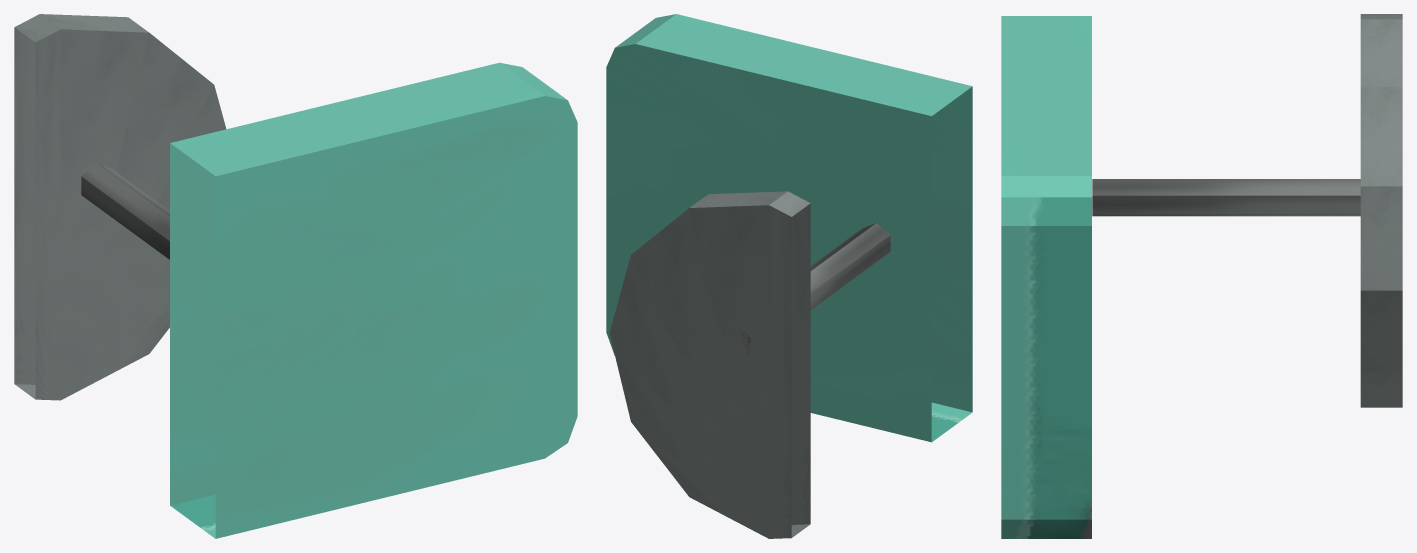
The model's file is pz_g019_50s_diner_table_part0.obj.
3 renders of one model, left to right at view 1: azimuth 30°, elevation 25°; view 2: azimuth 150°, elevation 25°; view 3: azimuth 270°, elevation 25°, orthographic. The views are drawn at different scales.
Visible parts, largest first — view 1: tabletop_top, pedestal_0_cap1, tabletop_edge, tabletop_bottom, pedestal_0_cap0, pedestal_1_side, pedestal_0_side; view 2: tabletop_bottom, pedestal_0_cap0, tabletop_edge, tabletop_top, pedestal_0_cap1, pedestal_1_side, pedestal_0_side; view 3: tabletop_edge, pedestal_0_side, pedestal_1_side.
Boxes of the visible parts, x1,y1,x2,y2 form: tabletop_top: (215, 96, 577, 538); pedestal_0_cap1: (35, 29, 226, 400); tabletop_edge: (170, 62, 567, 538); tabletop_bottom: (170, 143, 215, 505); pedestal_0_cap0: (14, 27, 35, 384); pedestal_1_side: (81, 163, 169, 259); pedestal_0_side: (14, 14, 148, 399); tabletop_bottom: (606, 44, 931, 442); pedestal_0_cap0: (609, 205, 791, 538); tabletop_edge: (615, 14, 972, 441); tabletop_top: (931, 86, 972, 412); pedestal_0_cap1: (791, 203, 810, 524); pedestal_1_side: (810, 223, 890, 309); pedestal_0_side: (690, 191, 810, 537); tabletop_edge: (1001, 16, 1091, 538); pedestal_0_side: (1360, 14, 1402, 407); pedestal_1_side: (1092, 179, 1360, 216).
Size of the model in its own units: 1 by 0.981 by 0.9629.
Materials: 1 (1 with a texture image).
